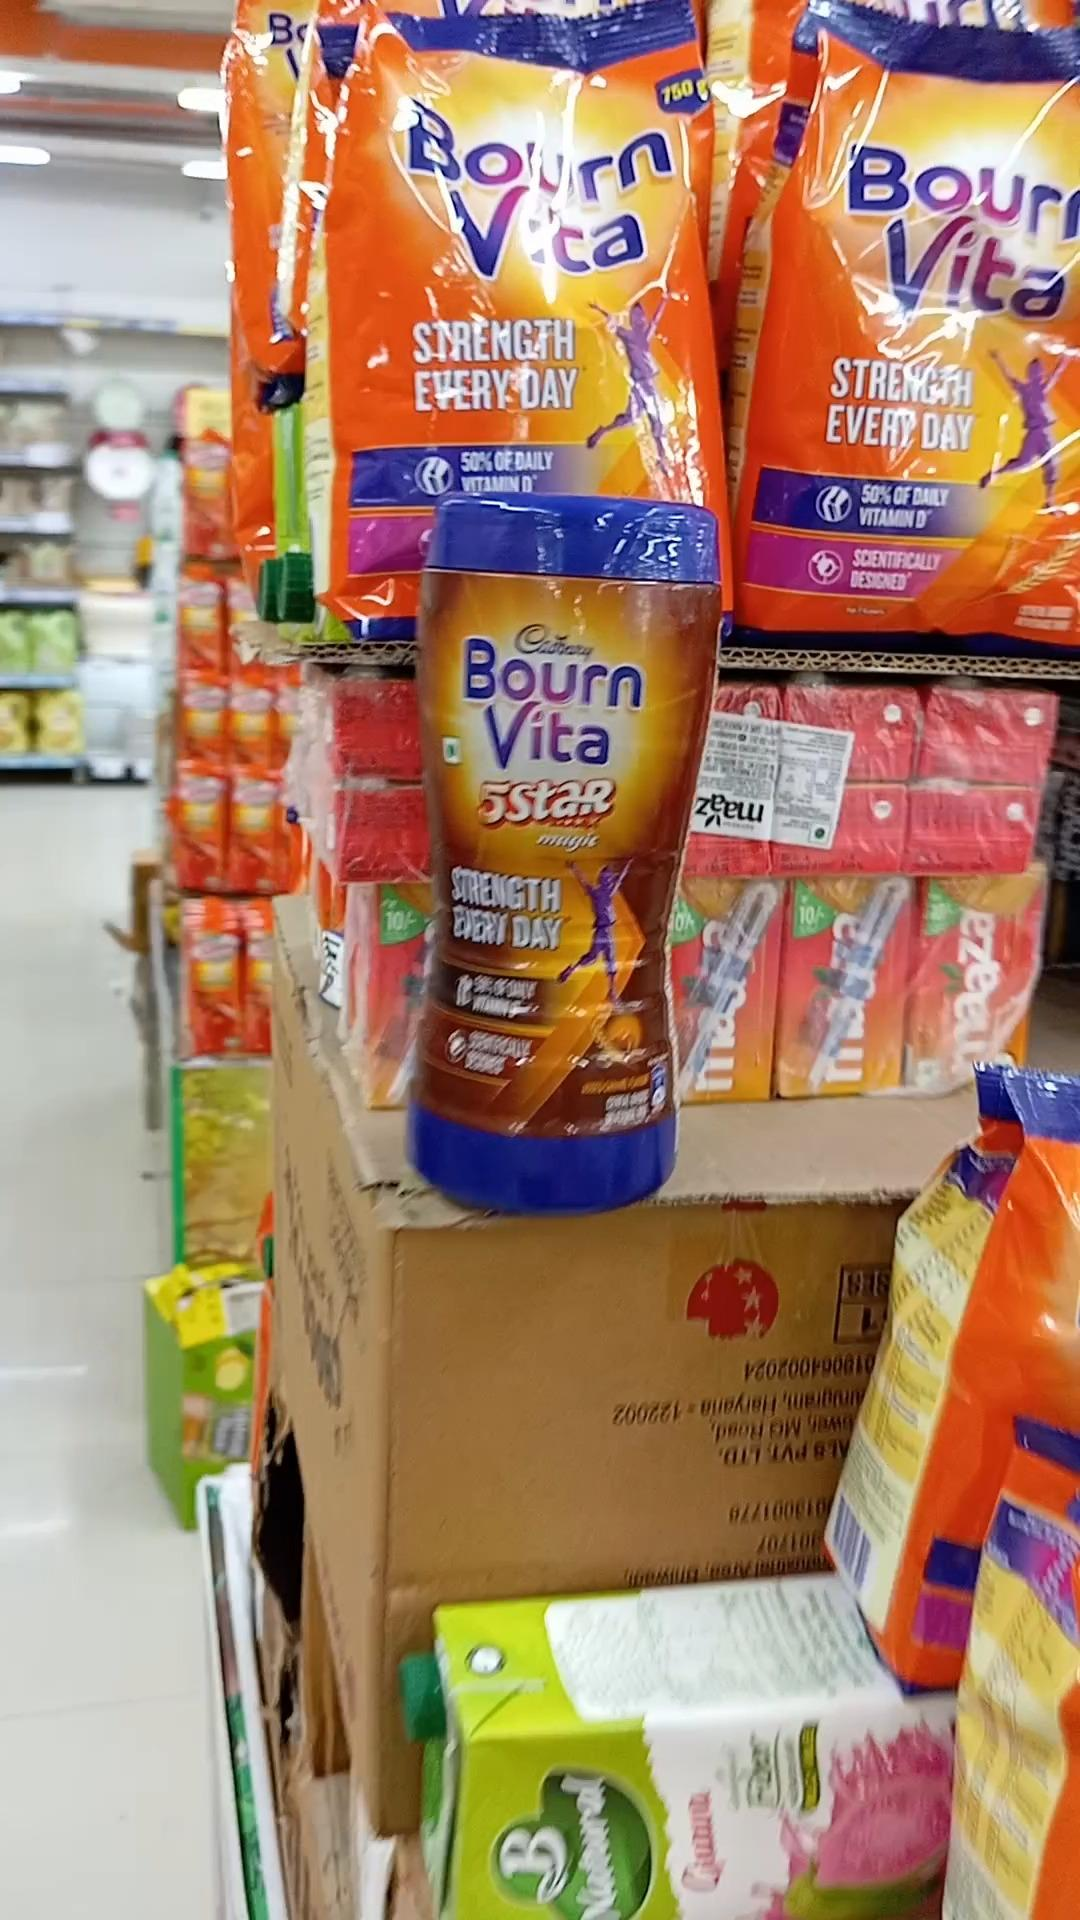BOURN_VITA_FIVE_STAR_MAGIC_500_G_JAR: (411, 493, 721, 1215)
